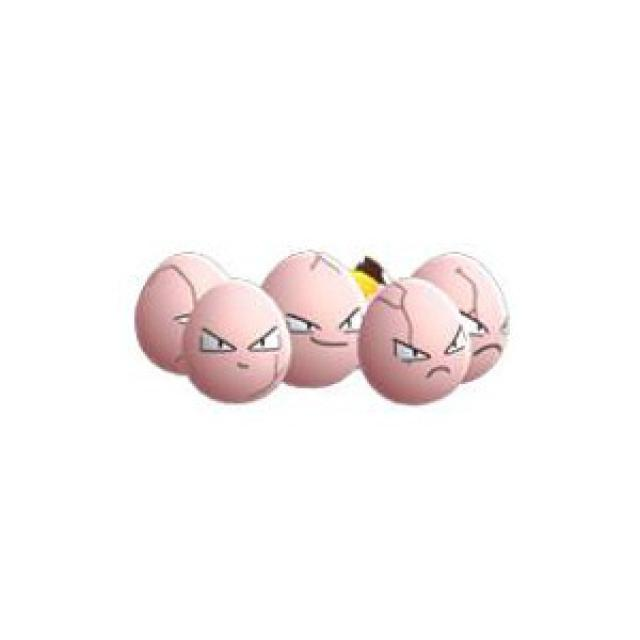Exeggcute: (131, 230, 533, 418)
